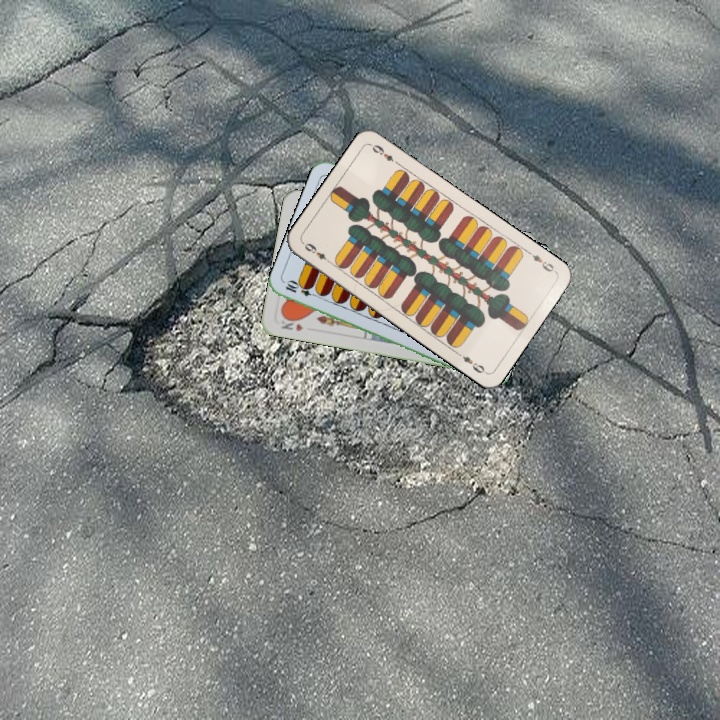E10: (281, 278, 321, 300)
E9: (299, 239, 335, 267), (523, 247, 559, 275)
HK: (277, 313, 306, 334)
